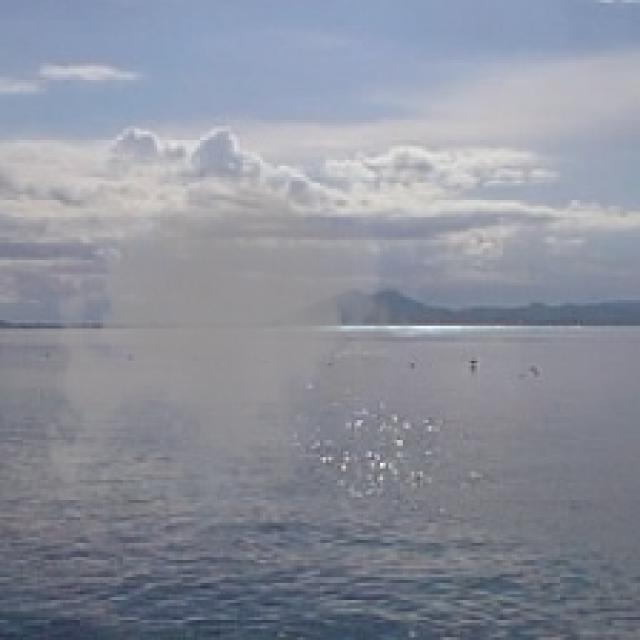smoke: (34, 149, 417, 554)
